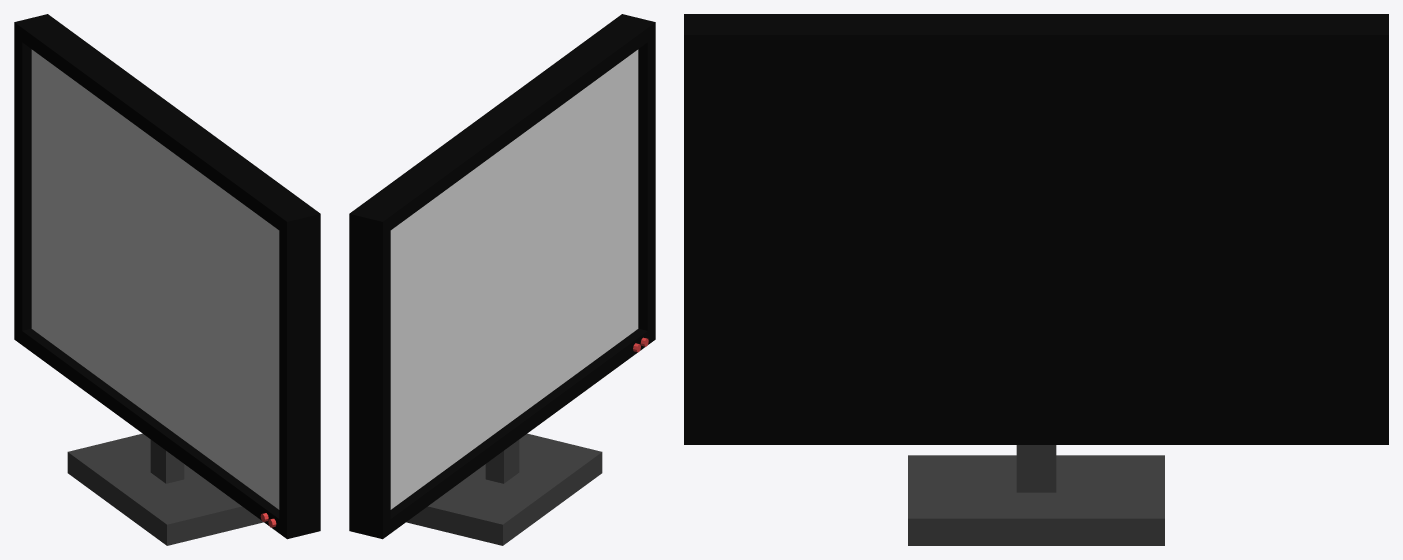
3 renders of one model, left to right at view 1: azimuth 30°, elevation 25°; view 2: azimuth 150°, elevation 25°; view 3: azimuth 270°, elevation 25°, orthographic. The views are drawn at different scales.
Visible parts, largest first — view 1: TvFront, TVbody; view 2: TvFront, TVbody; view 3: TVbody.
Boxes of the visible parts, bbox=[...] form: TvFront: bbox=[31, 49, 279, 509]; TVbody: bbox=[14, 14, 320, 545]; TvFront: bbox=[390, 49, 638, 509]; TVbody: bbox=[349, 14, 655, 545]; TVbody: bbox=[684, 14, 1388, 545].
Size of the model in its own units: 81.74 by 296 by 385.
